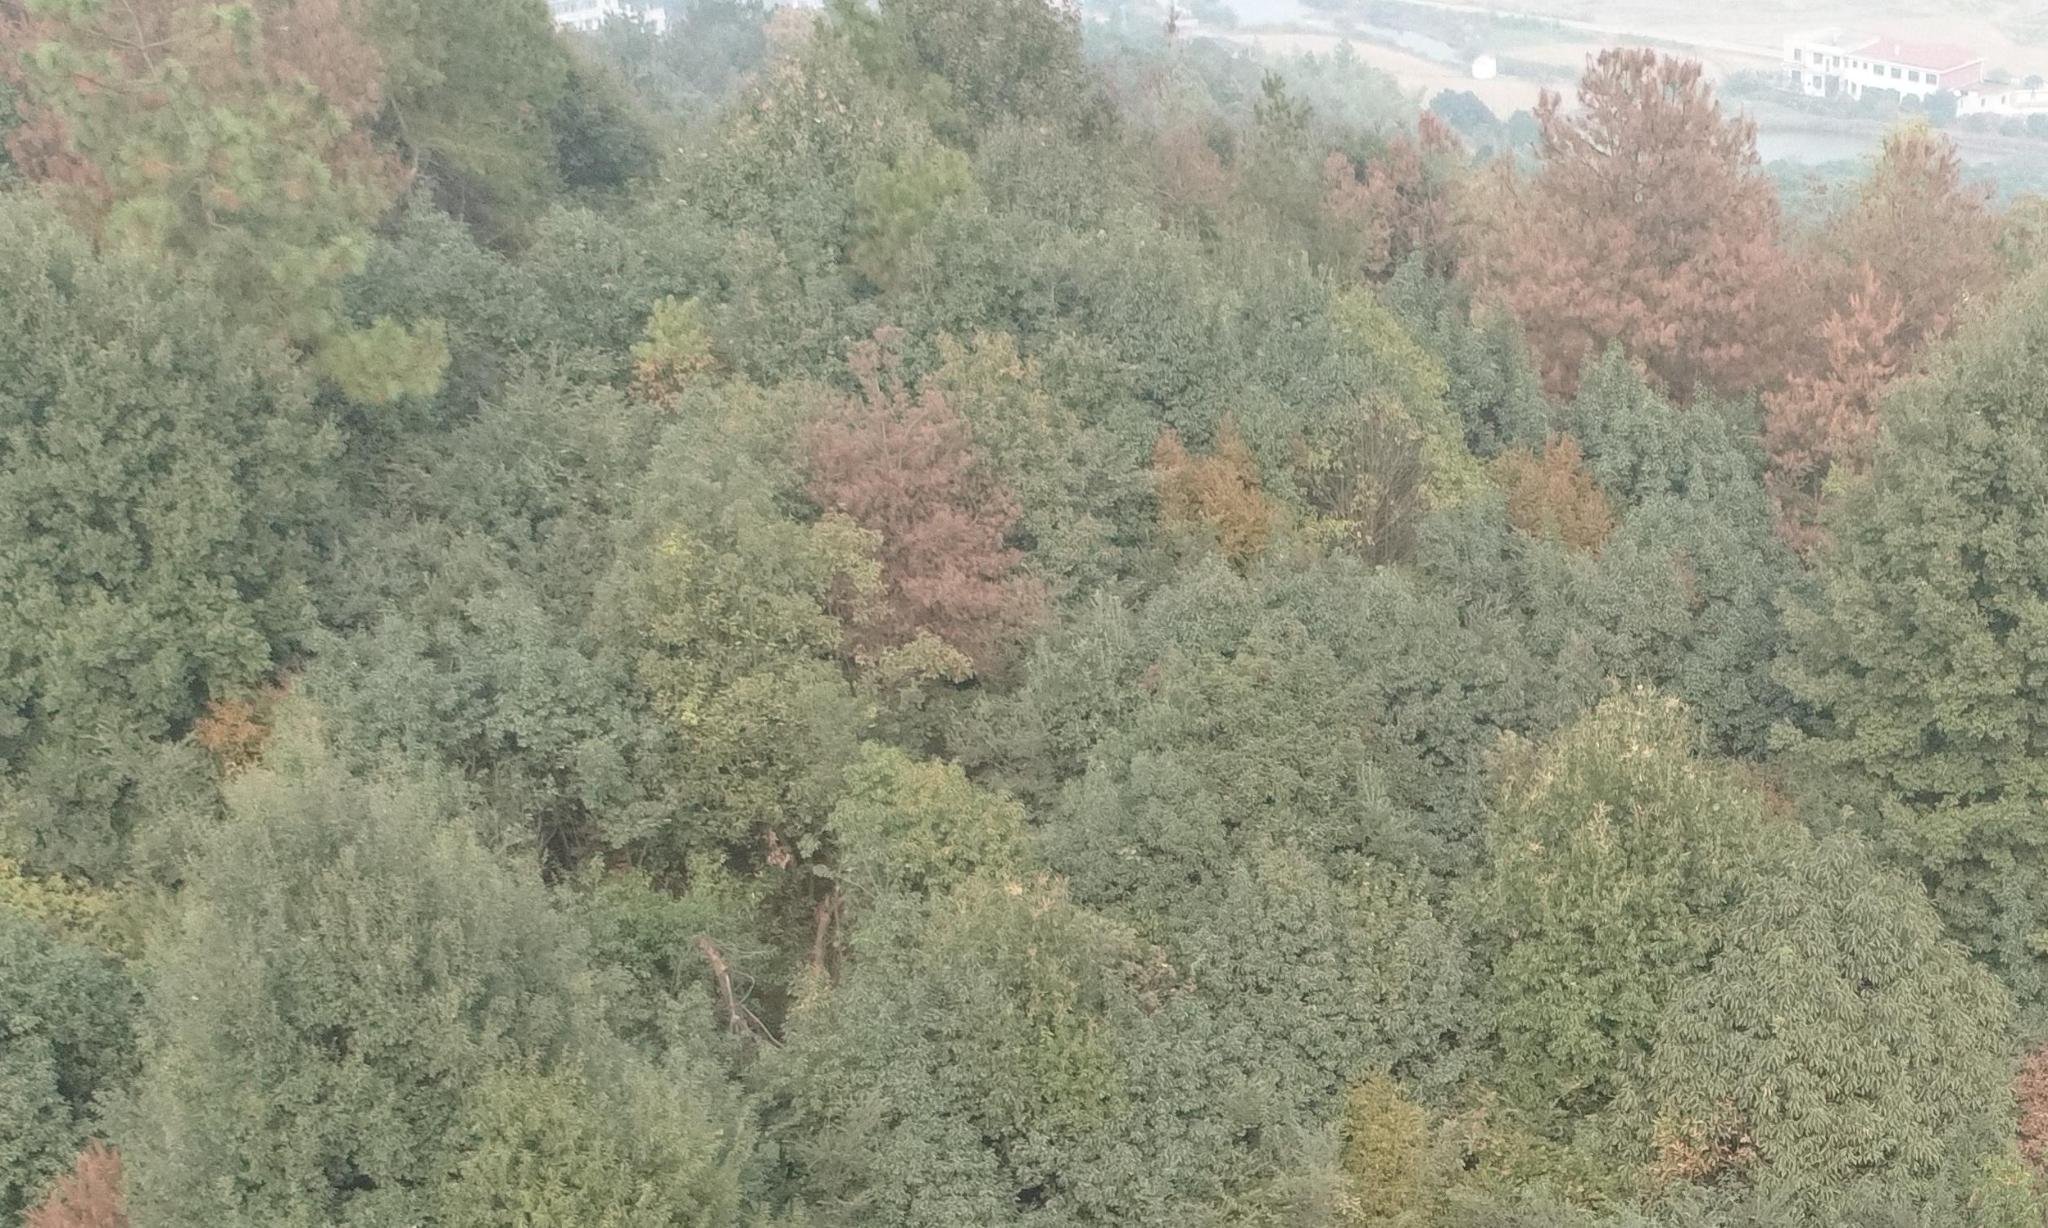heavy: (1463, 51, 1998, 472), (784, 335, 1042, 693)
light: (19, 20, 458, 406)
